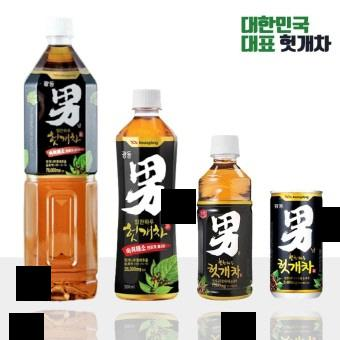heotgaecha: (112, 84, 184, 304)
